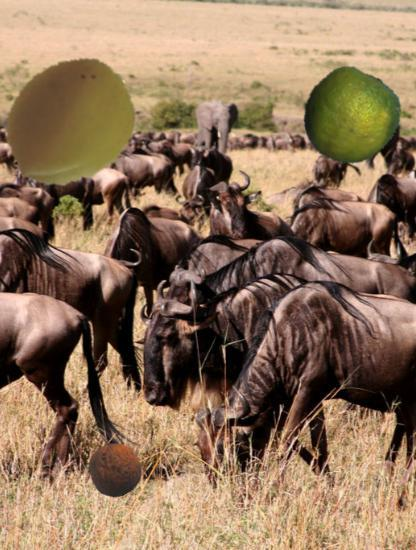Limes: (302, 68, 400, 166)
Peach: (1, 54, 139, 192)
Walnut: (88, 442, 143, 497)
